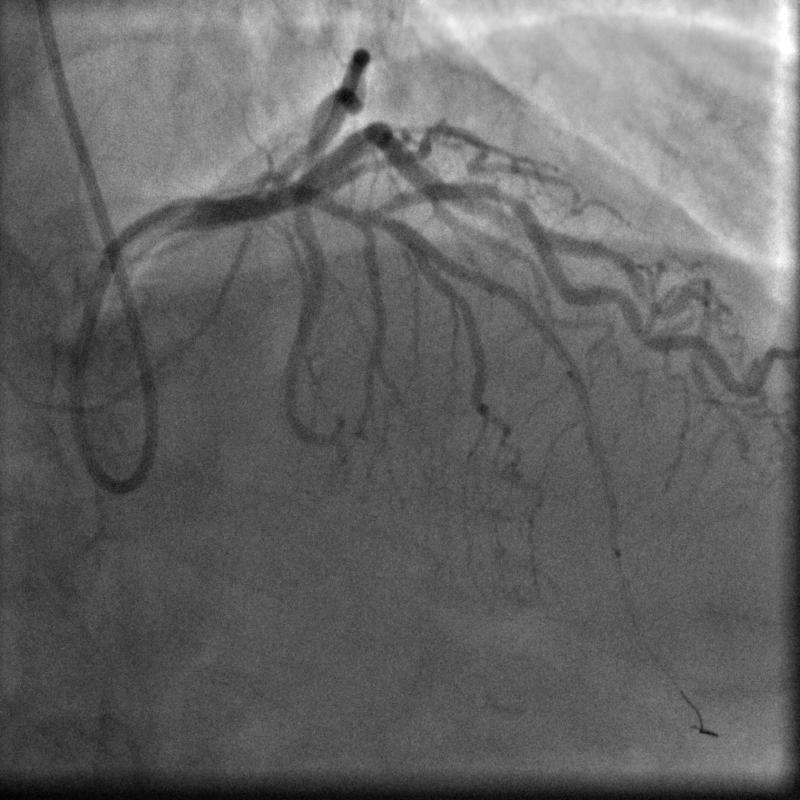Stenosis: (486, 175, 527, 216)
